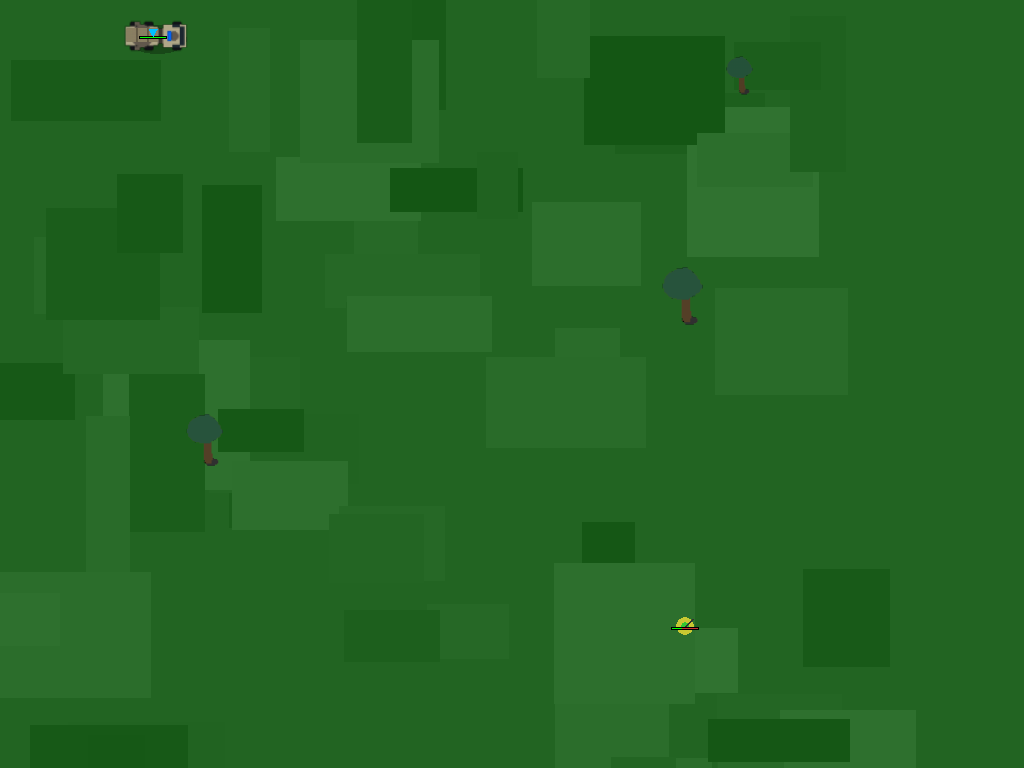CombatEngineer: (668, 609, 702, 643)
HIMARS: (123, 5, 181, 63)
